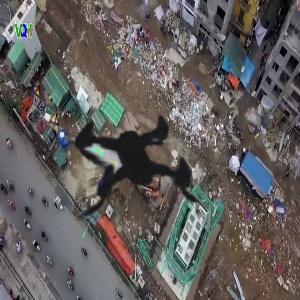drone: (1, 15, 276, 290)
